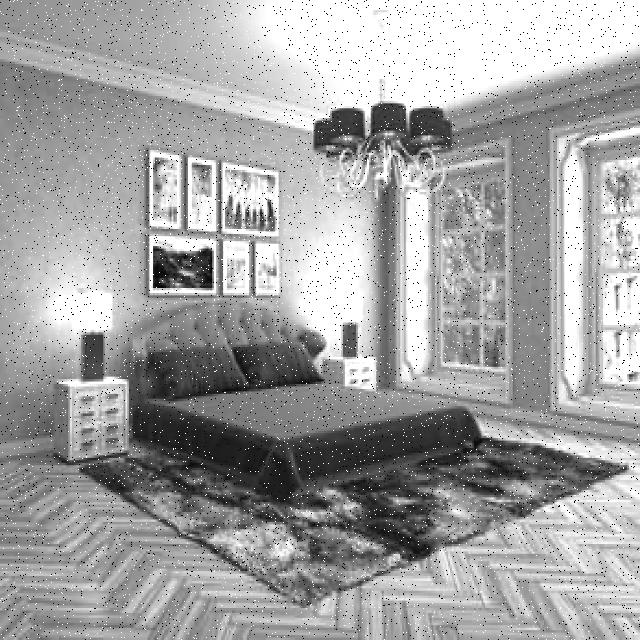bed: (132, 310, 454, 487)
